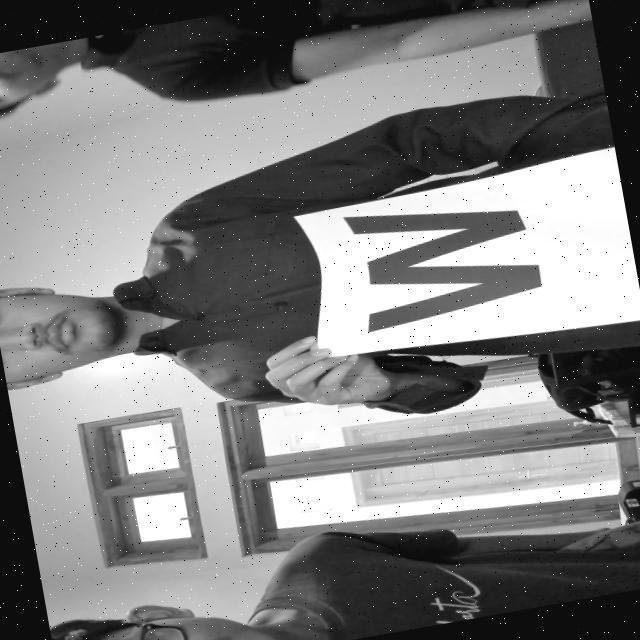w: (326, 171, 560, 351)
